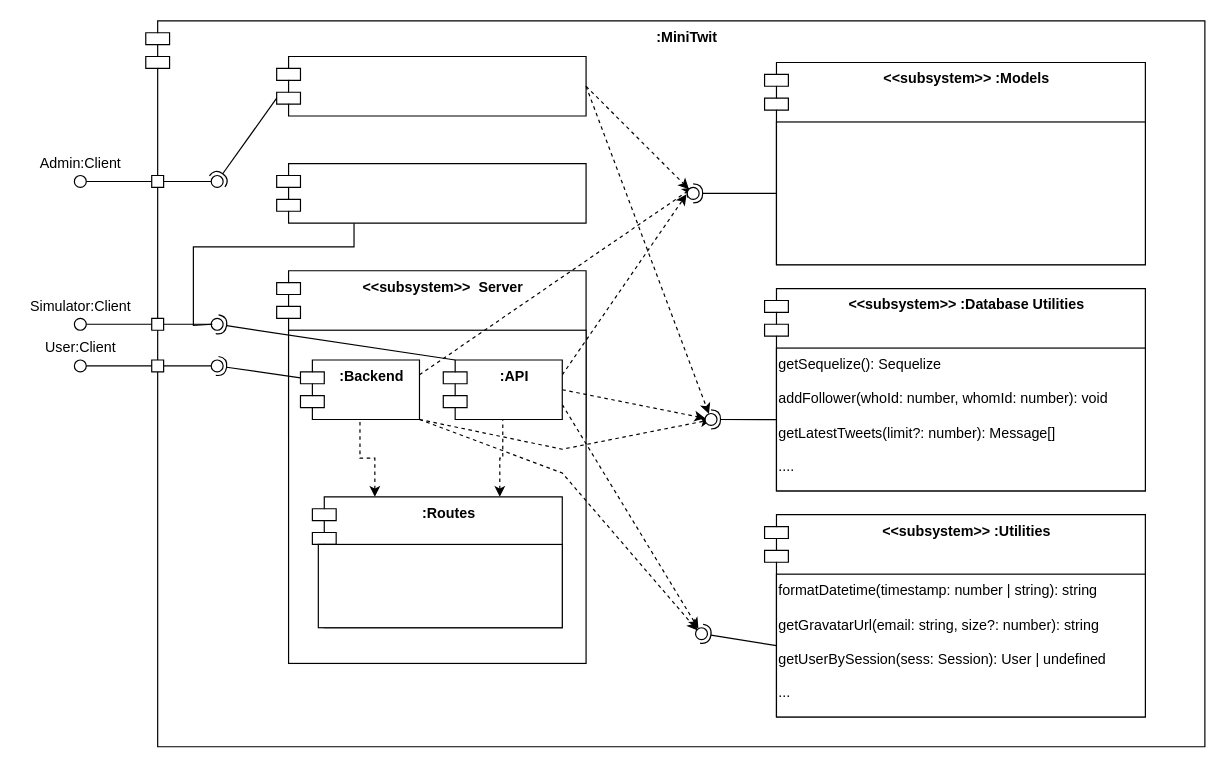
Image size: 1226x768. Some labels were removed from this diagram. Here are the shapes that lost their labels. From the top down, the centre of each, then its label:
point 430,85: :FlagTool
point 430,192: :API Test
point 960,193: initFollower(): void initMessage(): void initUser(): void ...
point 439,585: + messageRouter(): void + authenticationRouter(): void ...
